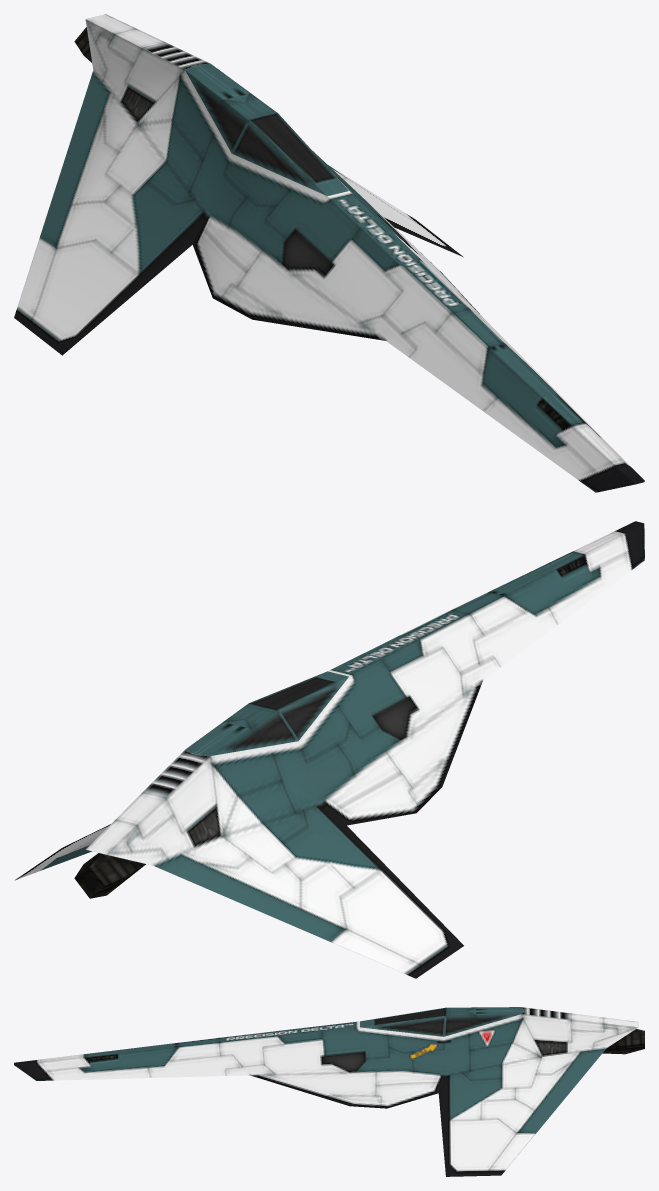
Rendered from Precision_Airbrakes.dae.
3 renders of one model, top to bottom at view 1: azimuth 30°, elevation 25°; view 2: azimuth 150°, elevation 25°; view 3: azimuth 270°, elevation 25°, orthographic. The views are drawn at different scales.
Parts seen in each view (by area): view 1: PrecisionDelta_Body, Airbrake_Right; view 2: PrecisionDelta_Body, Airbrake_Right; view 3: PrecisionDelta_Body, Airbrake_Left.
Boxes of the visible parts, box(x1,y1,x2,y2) form: PrecisionDelta_Body: box(14, 14, 644, 492); Airbrake_Right: box(40, 70, 110, 247); PrecisionDelta_Body: box(15, 521, 644, 978); Airbrake_Right: box(153, 853, 345, 941); PrecisionDelta_Body: box(14, 1007, 644, 1176); Airbrake_Left: box(517, 1048, 606, 1133).
Bounding box in the file's own units: 1.51 × 0.6884 × 3.58.
